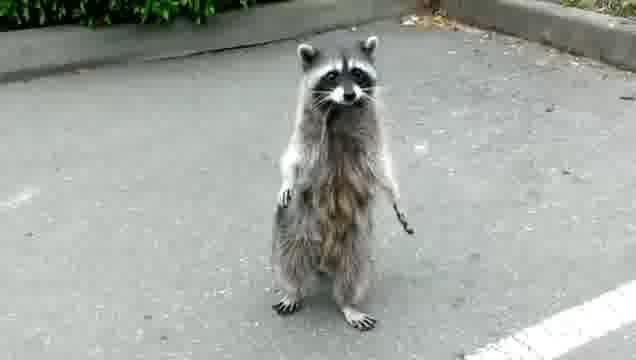raccoon: (270, 32, 417, 333)
